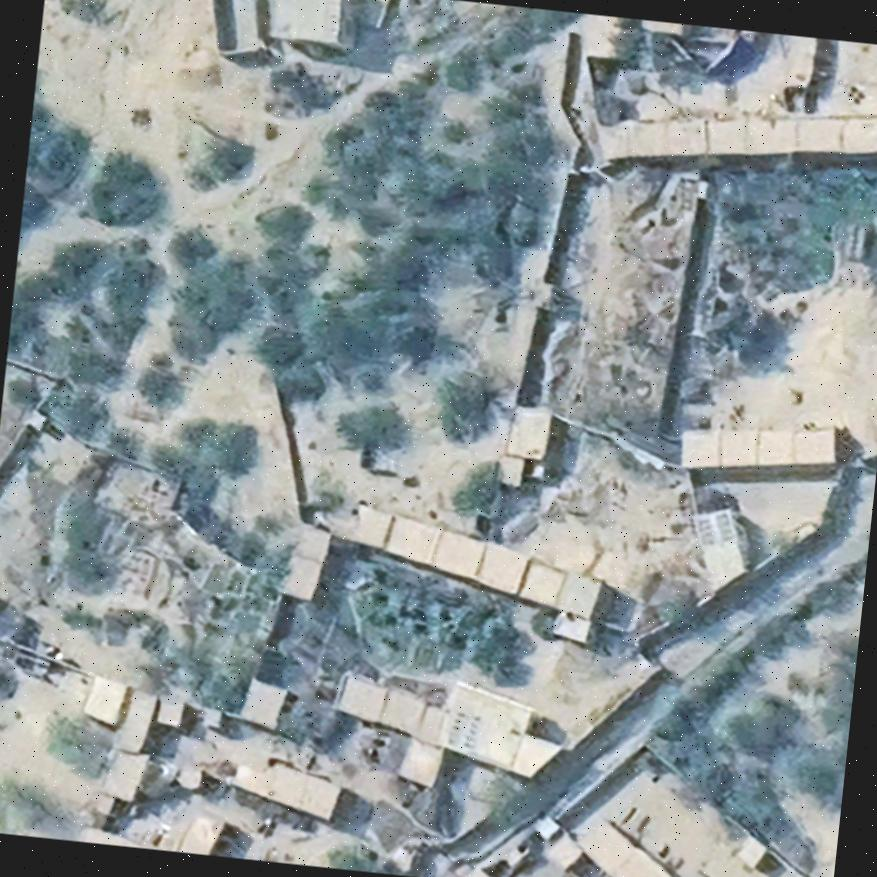Solarpanel: (442, 703, 483, 753)
